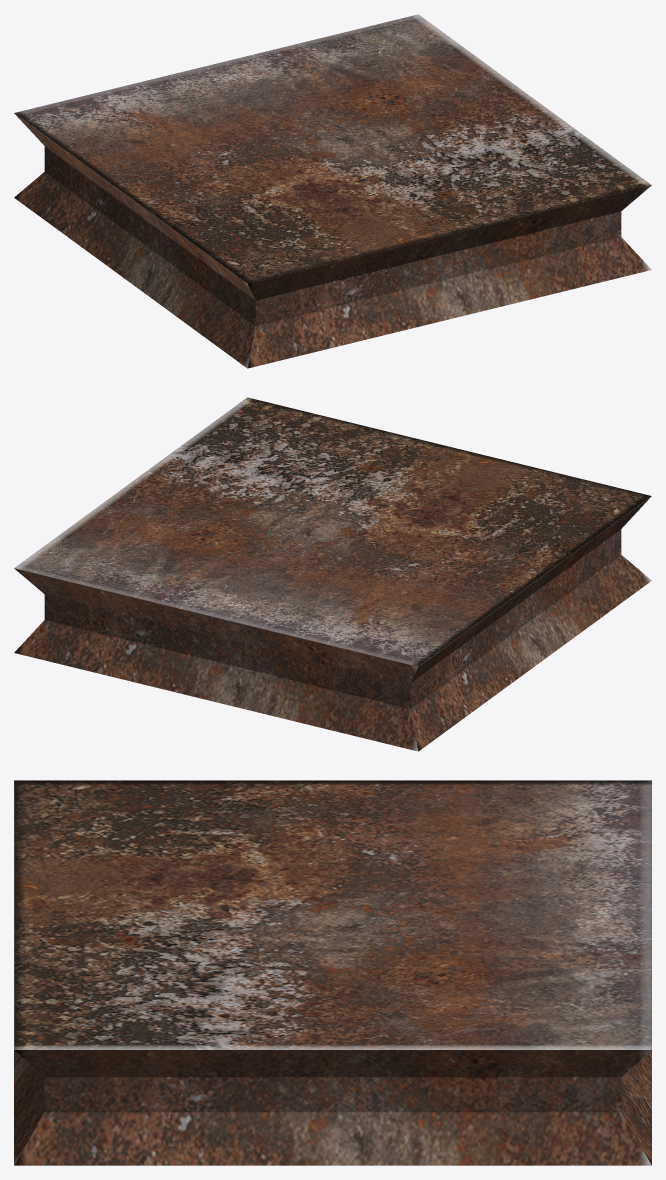
File: elevator.FBX
3 views of the same model, one above another, from view 1: azimuth 30°, elevation 25°; view 2: azimuth 150°, elevation 25°; view 3: azimuth 270°, elevation 25° (orthographic). The views are drawn at different scales.
Parts seen in each view (by area): view 1: Box001; view 2: Box001; view 3: Box001.
Part boxes in pixels (left/top/right/bottom): Box001: left=14, top=14, right=651, bottom=368; Box001: left=14, top=397, right=651, bottom=751; Box001: left=14, top=780, right=651, bottom=1165.
Bounding box in the file's own units: 10 × 2 × 10.
1 material, 1 textured.
